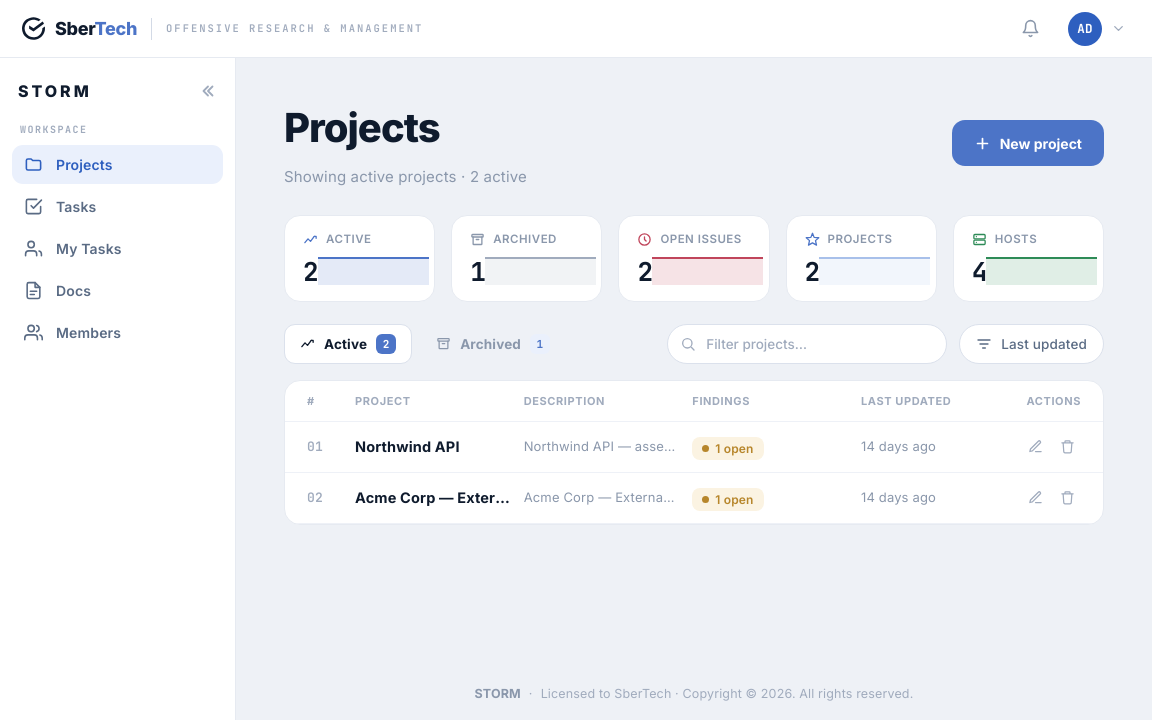
Test case: StormApp (design prototype port) › switches to the Archived tab
Expected: the text "Acme Corp — External Perimeter" is shown, x1=355 y1=489 x2=512 y2=506
Expected: the text "Globex VPN Audit" is not shown
Click the text "Archived" at [493, 344], box x1=436 y1=334 x2=550 y2=354
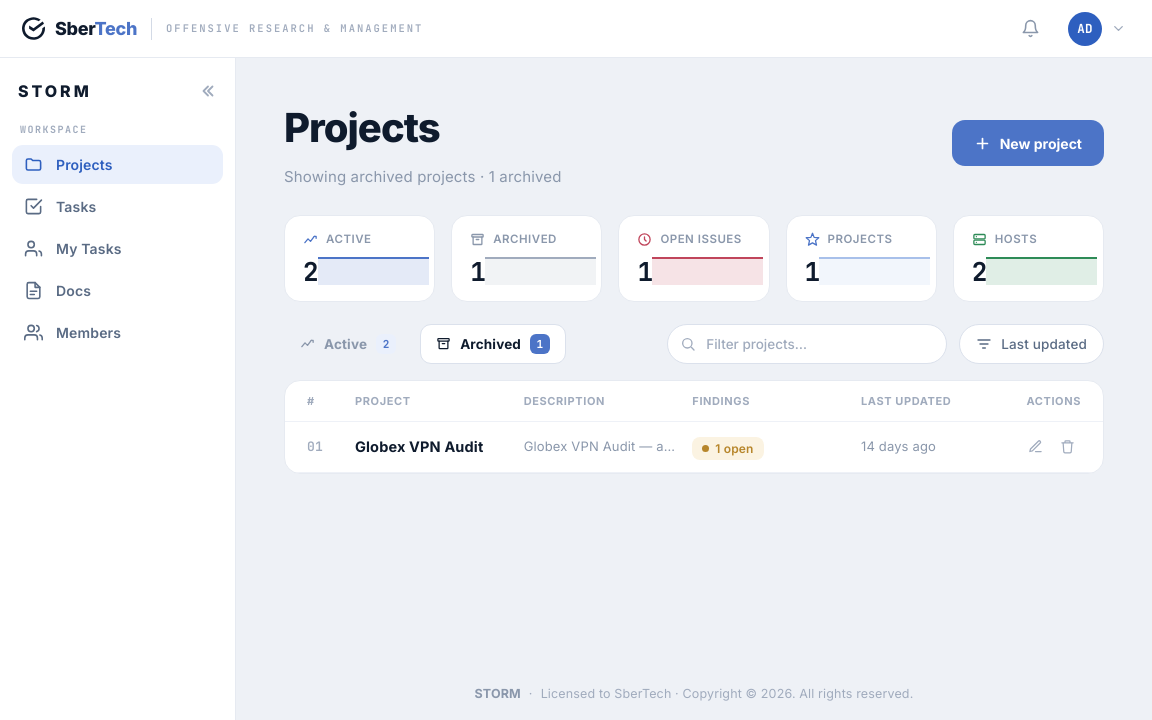
Result: the text "Globex VPN Audit" is shown at x1=355 y1=438 x2=483 y2=455
Result: the text "Northwind API" is gone
